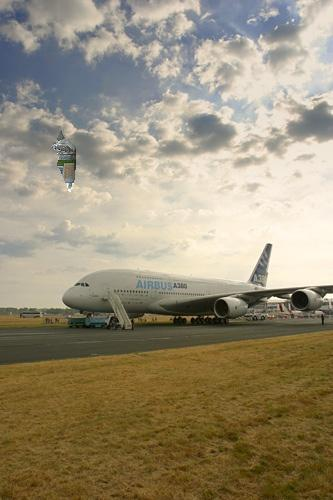tampered: (52, 129, 76, 192)
